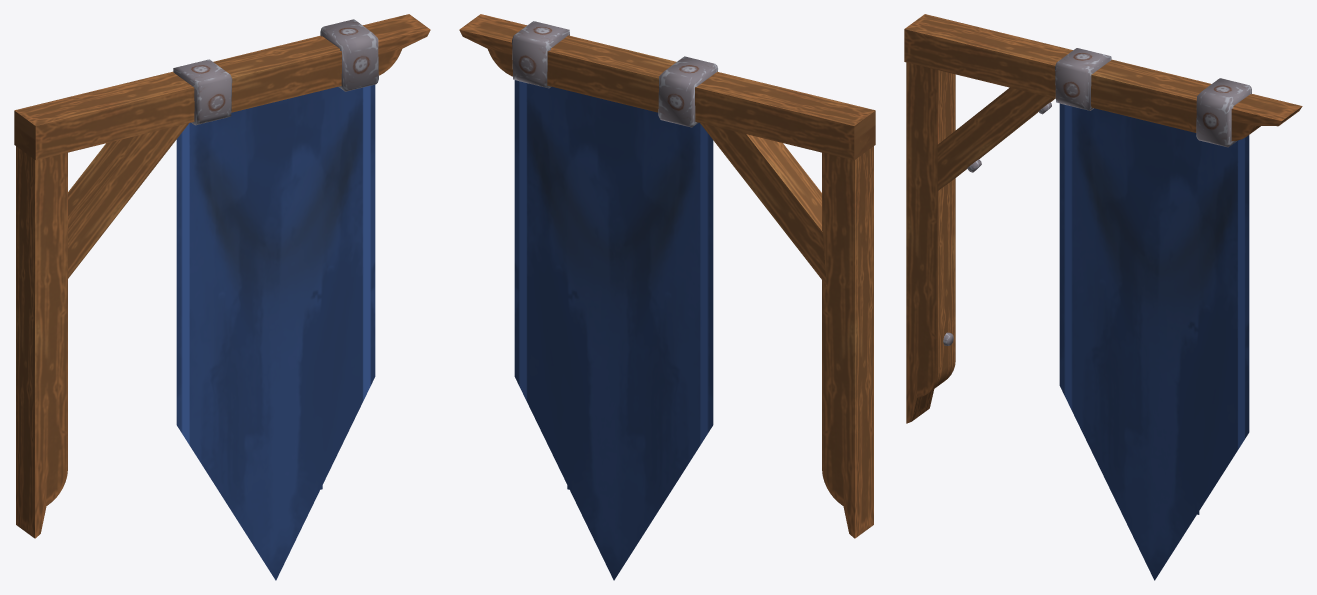
File: Banner_2.gltf
3 views of the same model, side by side, from view 1: azimuth 30°, elevation 25°; view 2: azimuth 150°, elevation 25°; view 3: azimuth 330°, elevation 25° (orthographic). The views are drawn at different scales.
Parts seen in each view (by area): view 1: Banner_2; view 2: Banner_2; view 3: Banner_2.
Boxes of the visible parts, box(x1,y1,x2,y2) form: Banner_2: box(14, 14, 430, 580); Banner_2: box(459, 14, 875, 580); Banner_2: box(904, 14, 1302, 580).
Size of the model in its own units: 1.61 by 2.08 by 0.1906.
3 materials, 3 textured.
